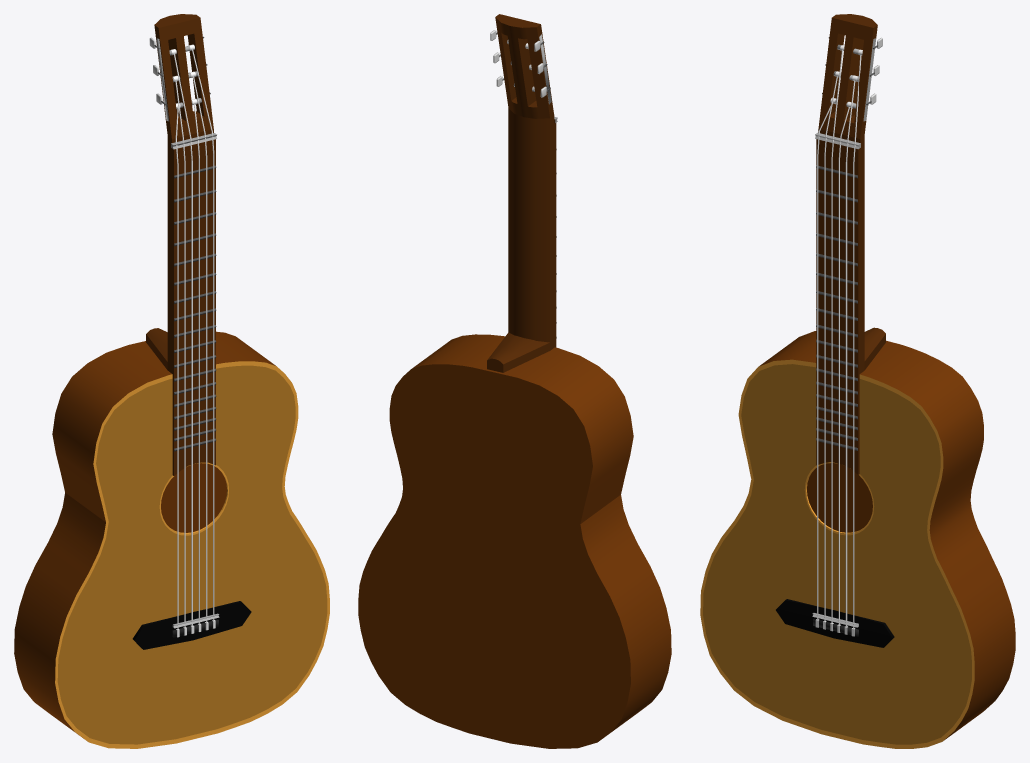
3 renders of one model, left to right at view 1: azimuth 30°, elevation 25°; view 2: azimuth 150°, elevation 25°; view 3: azimuth 330°, elevation 25°, orthographic.
Visible parts, largest first — view 1: ClassicalGuitar; view 2: ClassicalGuitar; view 3: ClassicalGuitar.
Part boxes in pixels (left/top/right/bottom): ClassicalGuitar: left=14, top=14, right=329, bottom=748; ClassicalGuitar: left=358, top=14, right=671, bottom=748; ClassicalGuitar: left=700, top=14, right=1015, bottom=748.
Bounding box in the file's own units: 0.4071 × 1 × 0.1144.
